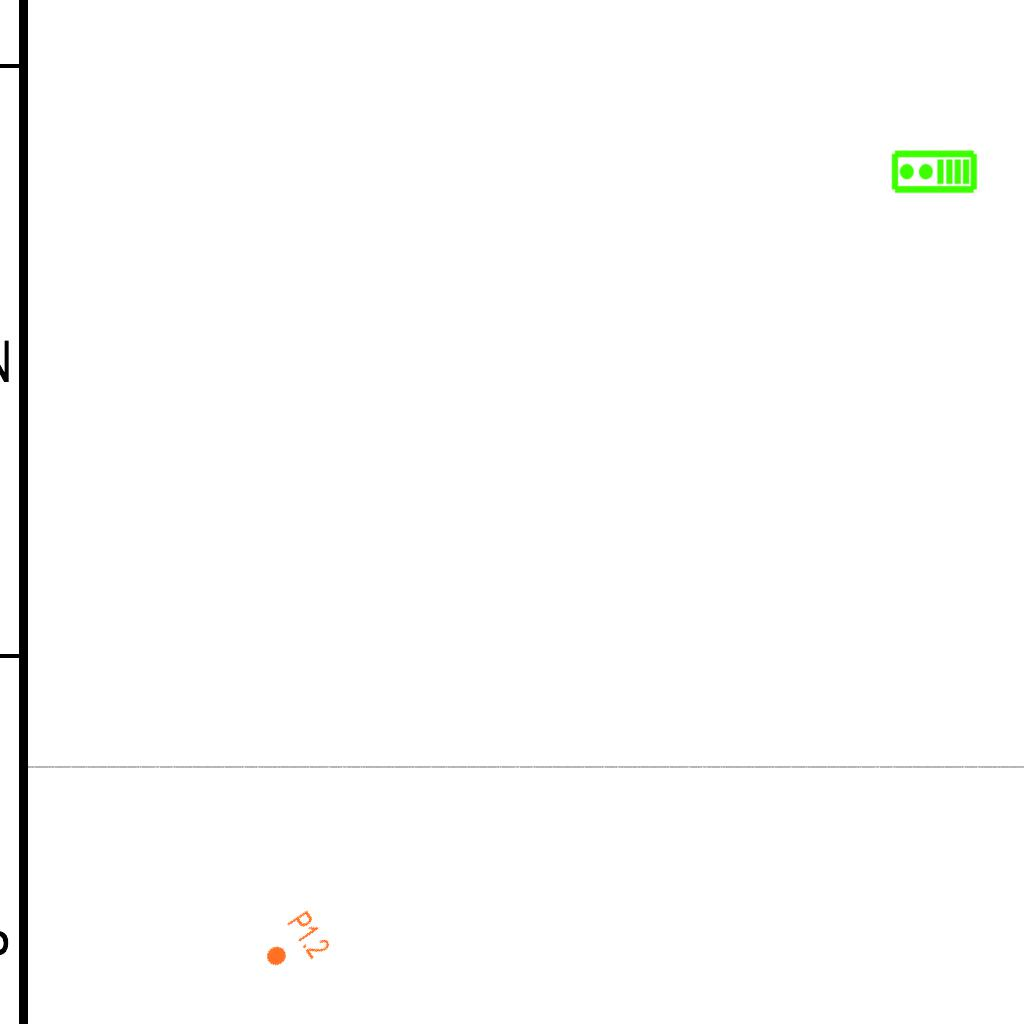Downlight_LED_Einbauleuchten_Flur: (254, 908, 334, 982)
Gegensprechanlage_mit_Video: (890, 149, 978, 196)
